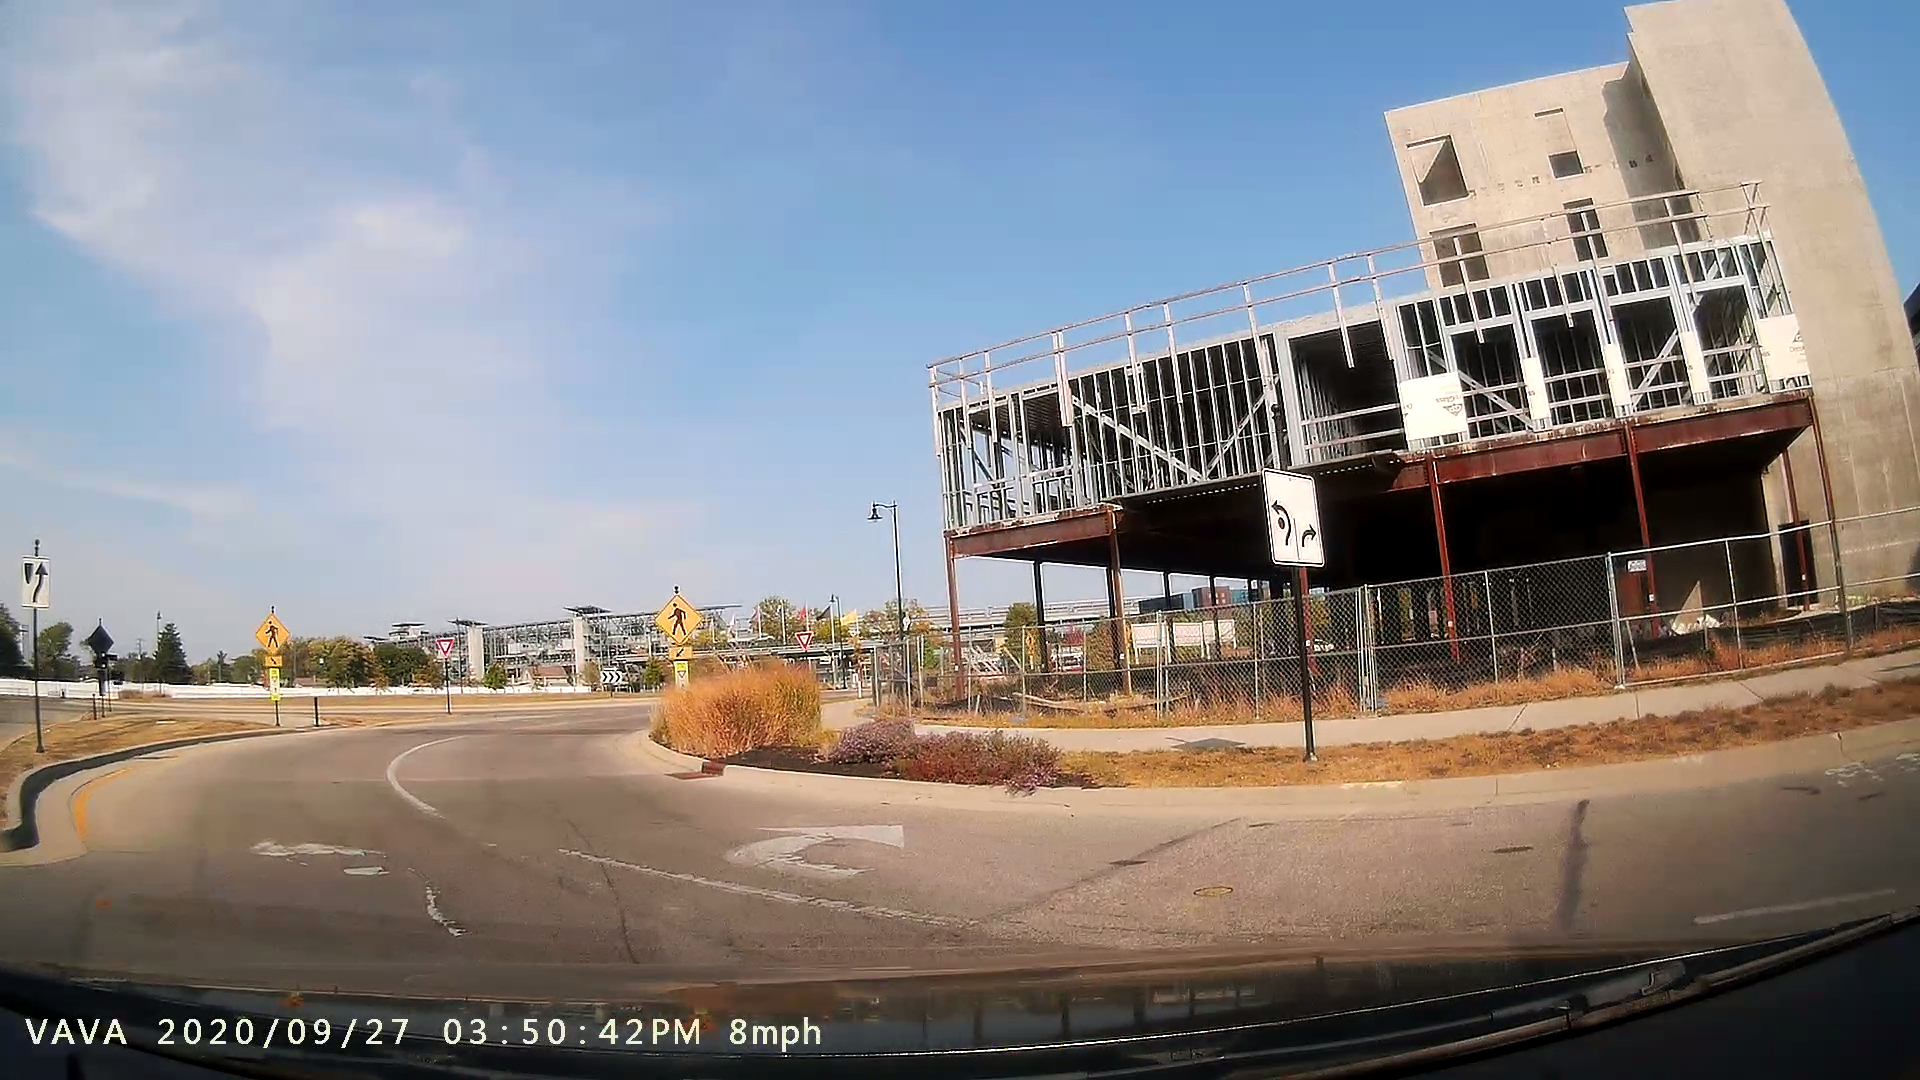right_turn: (715, 811, 926, 882)
